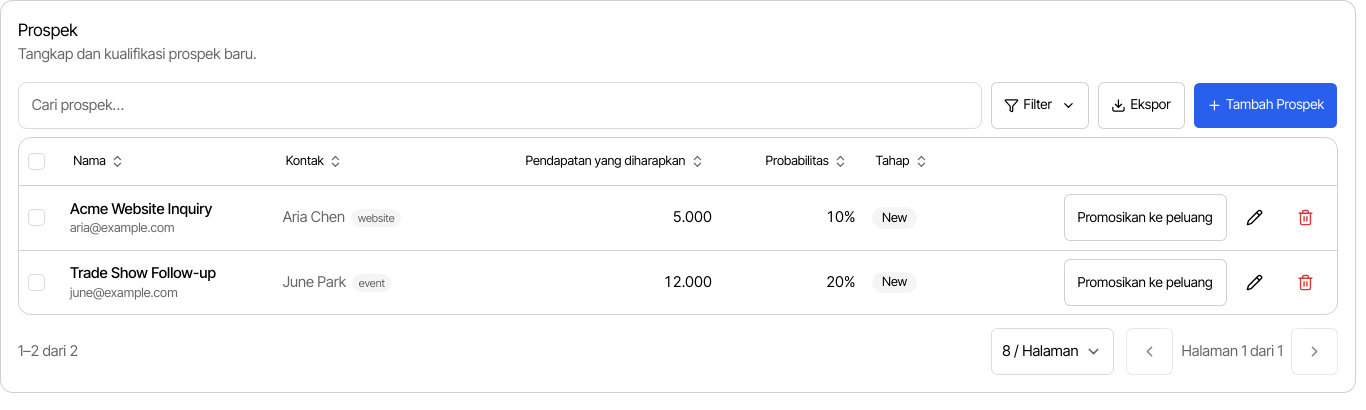
Test: LeadsSection › filters leads through the search box
Expected: the text "Acme Website Inquiry" is shown, [70, 200, 212, 218]
In the search field with placeholder "Cari prospek…": x=500, y=105 [18, 82, 982, 129], type "Trade Show"
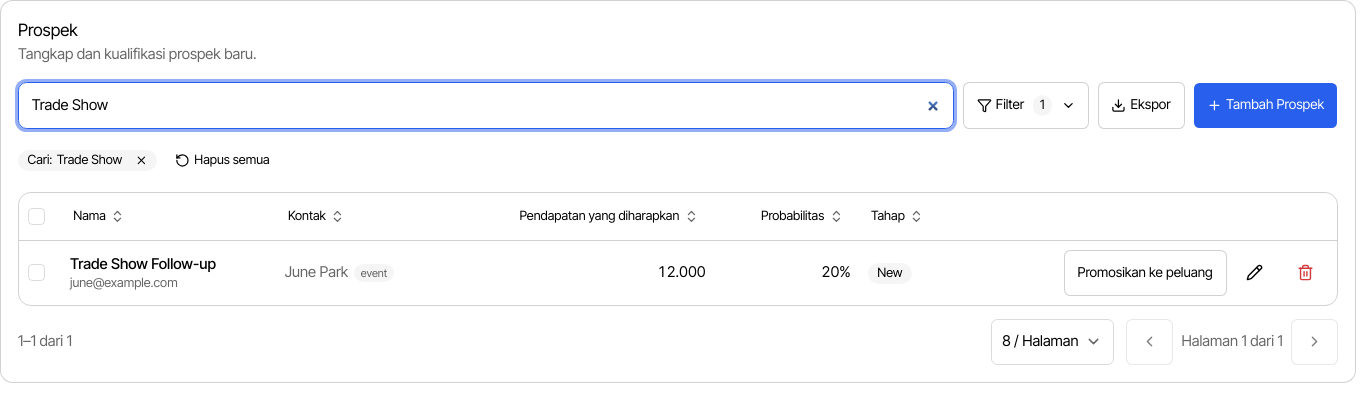
Expected: the text "Trade Show Follow-up" is shown, [70, 255, 216, 273]
Expected: the text "Acme Website Inquiry" is gone
